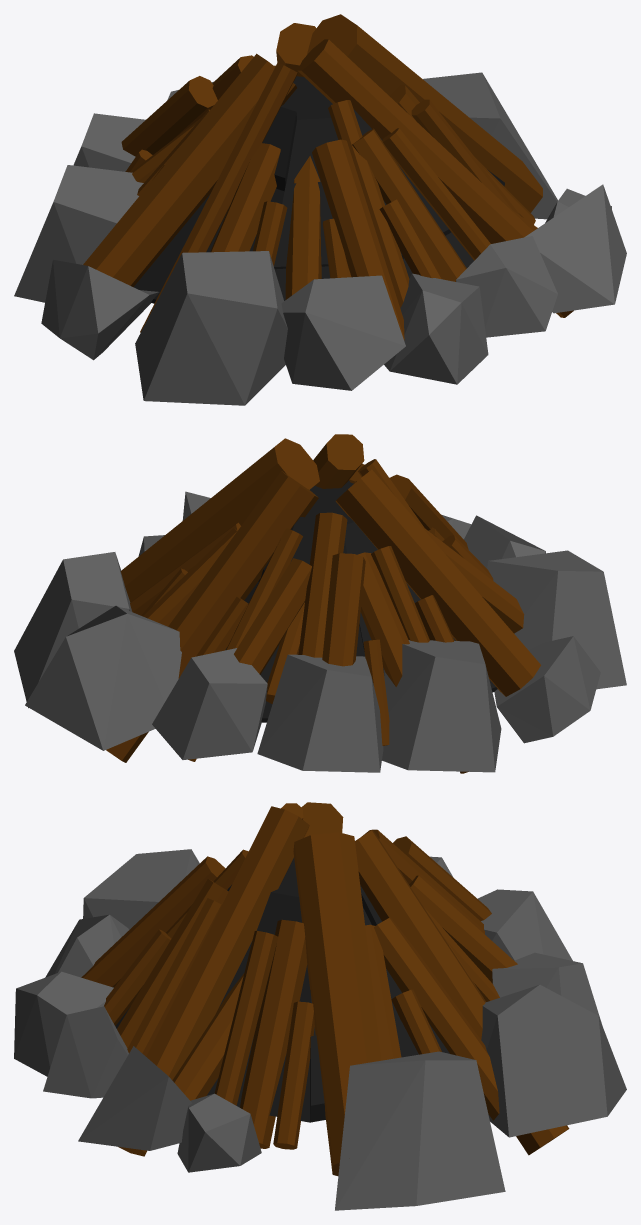
The model's file is Campfire_2.fbx.
3 views of the same model, one above another, from view 1: azimuth 30°, elevation 25°; view 2: azimuth 150°, elevation 25°; view 3: azimuth 270°, elevation 25° (orthographic). The views are drawn at different scales.
Parts seen in each view (by area): view 1: Icosphere.005; view 2: Icosphere.005; view 3: Icosphere.005.
Boxes of the visible parts, x1,y1,x2,y2 form: Icosphere.005: (14, 14, 626, 405); Icosphere.005: (14, 434, 626, 773); Icosphere.005: (14, 802, 626, 1210).
Bounding box in the file's own units: 117 × 57.86 × 111.
